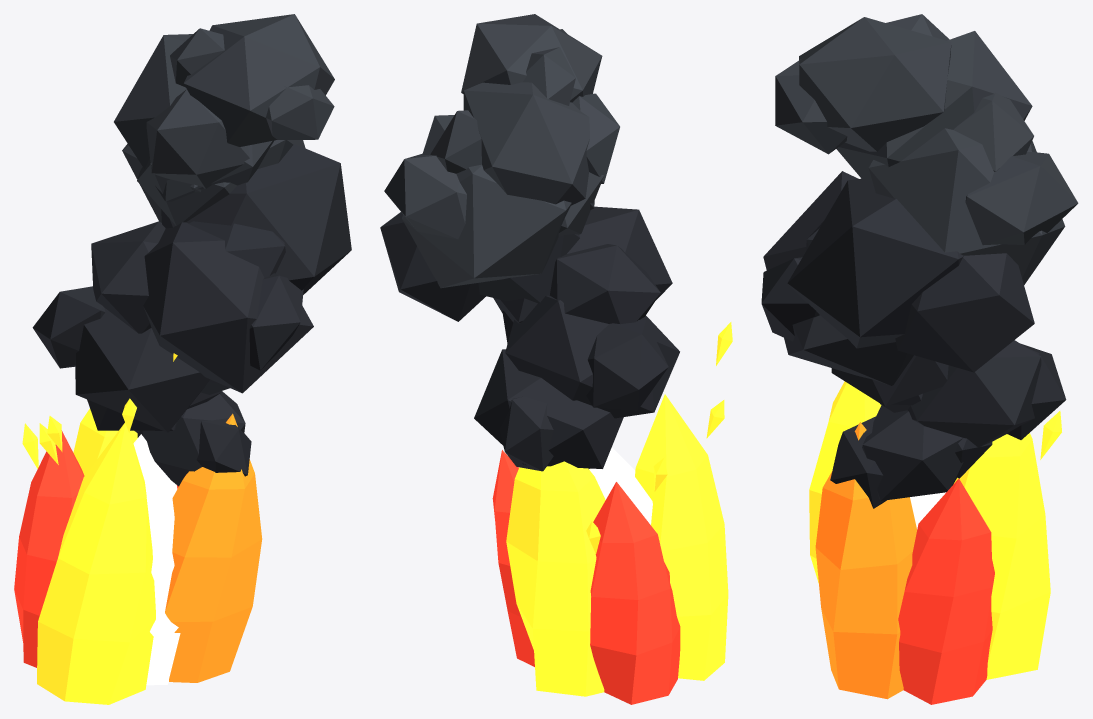
File: fx_fire_building_blaze.glb
3 renders of one model, left to right at view 1: azimuth 30°, elevation 25°; view 2: azimuth 150°, elevation 25°; view 3: azimuth 270°, elevation 25°, orthographic. The views are drawn at different scales.
Parts seen in each view (by area): view 1: fx_fire_building_blaze_fire_soot, fx_fire_building_blaze_fire_smoke, fx_fire_building_blaze_fire_yellow, fx_fire_building_blaze_fire_orange, fx_fire_building_blaze_fire_red, fx_fire_building_blaze_fire_core; view 2: fx_fire_building_blaze_fire_smoke, fx_fire_building_blaze_fire_soot, fx_fire_building_blaze_fire_yellow, fx_fire_building_blaze_fire_red, fx_fire_building_blaze_fire_core; view 3: fx_fire_building_blaze_fire_soot, fx_fire_building_blaze_fire_smoke, fx_fire_building_blaze_fire_yellow, fx_fire_building_blaze_fire_orange, fx_fire_building_blaze_fire_red, fx_fire_building_blaze_fire_core.
Part boxes in pixels (x1,y1,x2,y2): fx_fire_building_blaze_fire_soot: (32,144,351,486); fx_fire_building_blaze_fire_smoke: (114,14,334,225); fx_fire_building_blaze_fire_yellow: (22,353,177,704); fx_fire_building_blaze_fire_orange: (165,413,262,682); fx_fire_building_blaze_fire_red: (14,430,178,667); fx_fire_building_blaze_fire_core: (133,434,180,685); fx_fire_building_blaze_fire_smoke: (384,14,619,288); fx_fire_building_blaze_fire_soot: (380,206,679,471); fx_fire_building_blaze_fire_yellow: (506,322,732,696); fx_fire_building_blaze_fire_red: (492,450,680,704); fx_fire_building_blaze_fire_core: (589,447,652,524); fx_fire_building_blaze_fire_soot: (761,171,1066,508); fx_fire_building_blaze_fire_smoke: (775,14,1078,284); fx_fire_building_blaze_fire_yellow: (809,381,1061,679); fx_fire_building_blaze_fire_orange: (815,422,916,699); fx_fire_building_blaze_fire_red: (898,479,994,704); fx_fire_building_blaze_fire_core: (910,492,945,529).
Size of the model in its own units: 1.11 by 2.15 by 0.8994.
